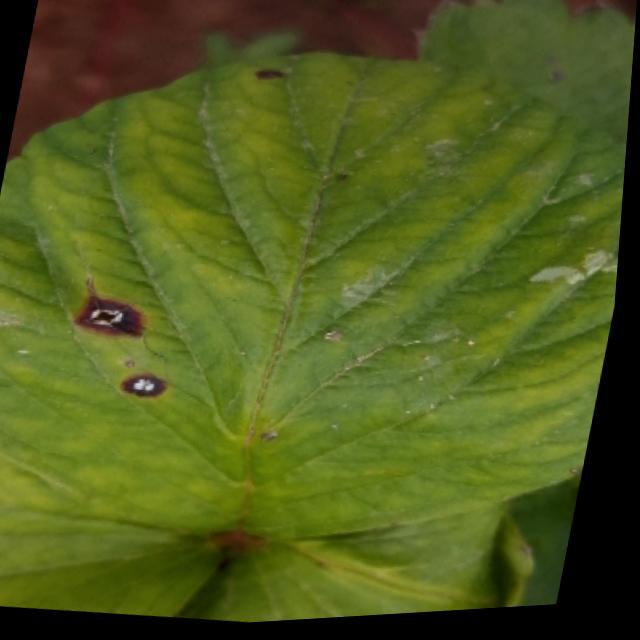Leaf Spot: (0, 55, 629, 543), (417, 0, 637, 161)
